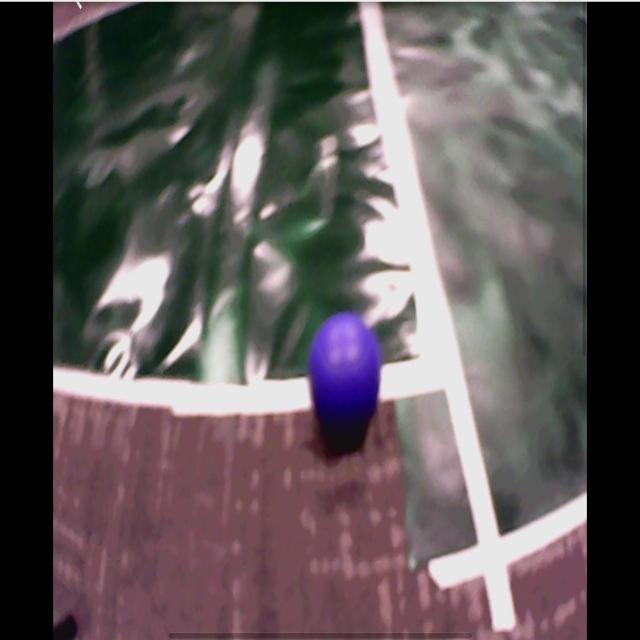ball: (308, 310, 381, 427)
